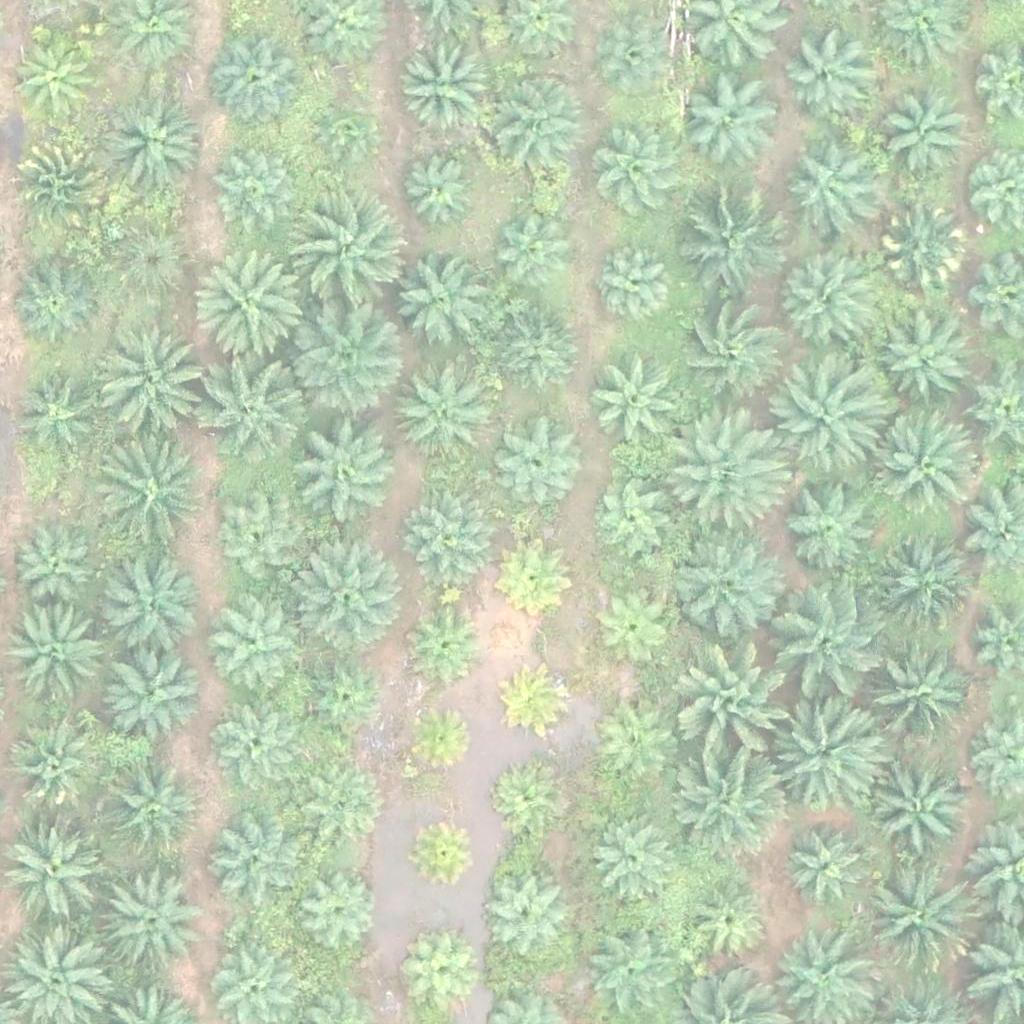Kelapa_Sawit: (859, 643, 972, 757), (93, 328, 206, 442), (860, 862, 973, 975), (776, 589, 889, 702), (675, 747, 788, 860), (288, 305, 401, 418), (289, 415, 402, 528), (290, 538, 403, 651), (199, 351, 312, 464), (195, 247, 308, 360), (89, 442, 202, 555), (775, 366, 887, 480), (681, 651, 793, 765), (676, 190, 788, 304), (295, 195, 407, 309), (872, 412, 984, 525), (771, 694, 883, 807), (668, 525, 780, 638), (668, 410, 780, 523), (672, 297, 784, 410), (102, 866, 202, 967), (871, 759, 971, 860), (877, 310, 977, 411), (776, 471, 876, 572), (688, 71, 788, 172), (587, 355, 687, 456), (482, 71, 582, 172), (391, 359, 491, 460), (209, 31, 309, 132), (101, 88, 201, 189), (98, 558, 198, 659), (103, 641, 203, 742), (3, 814, 103, 915), (102, 758, 202, 859), (209, 810, 309, 911), (5, 606, 105, 707), (872, 537, 972, 637), (771, 253, 871, 353), (396, 38, 496, 138), (390, 254, 490, 354), (14, 135, 114, 235), (589, 241, 677, 330), (683, 880, 771, 968), (478, 873, 566, 961), (300, 653, 388, 741), (300, 771, 388, 859), (781, 31, 869, 119), (782, 147, 870, 235), (783, 825, 871, 913), (597, 131, 685, 219), (491, 204, 579, 292), (103, 221, 191, 309), (8, 367, 96, 455), (586, 581, 674, 669), (591, 704, 679, 792), (210, 609, 298, 697), (211, 701, 299, 789), (212, 152, 300, 240), (8, 37, 96, 125), (13, 260, 101, 348), (13, 517, 101, 605), (583, 930, 670, 1019), (296, 869, 383, 957), (879, 206, 966, 294), (878, 91, 965, 179), (494, 309, 581, 397), (589, 479, 676, 567), (590, 813, 677, 901), (404, 489, 491, 577), (491, 420, 578, 508), (216, 498, 303, 586), (8, 723, 95, 811), (401, 154, 476, 230), (485, 759, 560, 835), (601, 21, 676, 97), (402, 939, 477, 1015), (407, 812, 482, 888), (500, 663, 575, 739), (410, 605, 485, 680), (402, 702, 477, 777), (500, 541, 575, 616), (312, 98, 374, 161)
